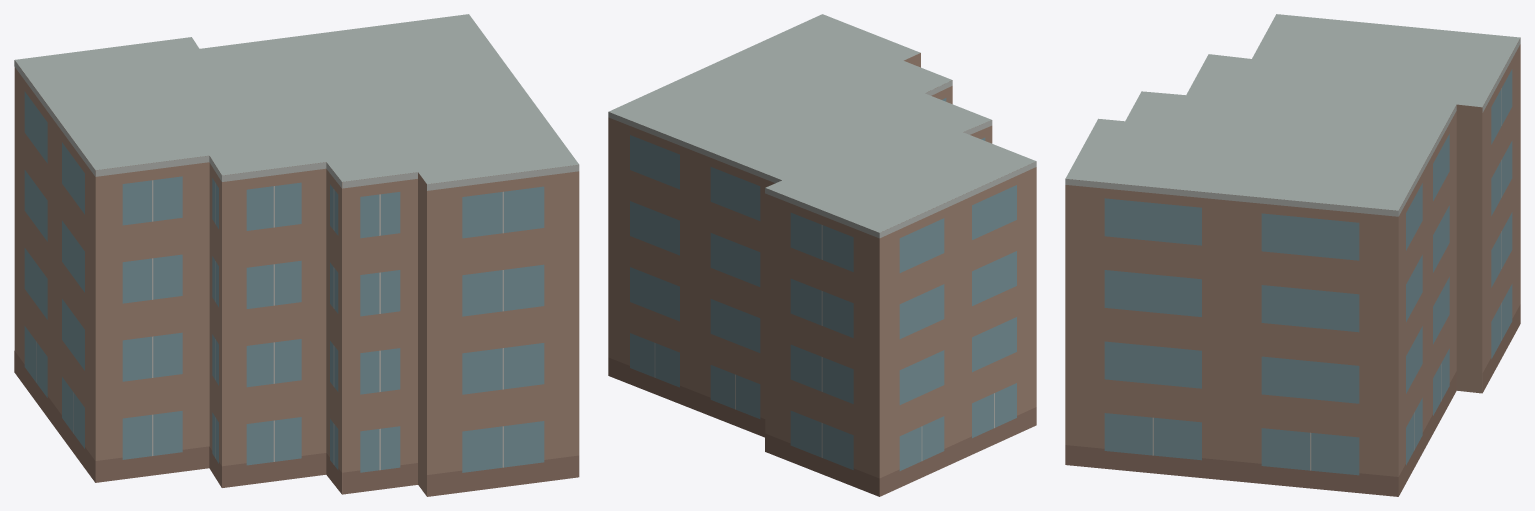
The model's file is survey-upis-32719039.glb.
3 views of the same model, side by side, from view 1: azimuth 30°, elevation 25°; view 2: azimuth 150°, elevation 25°; view 3: azimuth 270°, elevation 25° (orthographic). The views are drawn at different scales.
Parts seen in each view (by area): view 1: survey-upis-32719039.tmp; view 2: survey-upis-32719039.tmp; view 3: survey-upis-32719039.tmp.
Boxes of the visible parts, bbox=[...] form: survey-upis-32719039.tmp: bbox=[14, 14, 579, 496]; survey-upis-32719039.tmp: bbox=[608, 14, 1036, 496]; survey-upis-32719039.tmp: bbox=[1065, 14, 1520, 496].
Size of the model in its own units: 16.96 by 11.5 by 16.59.
